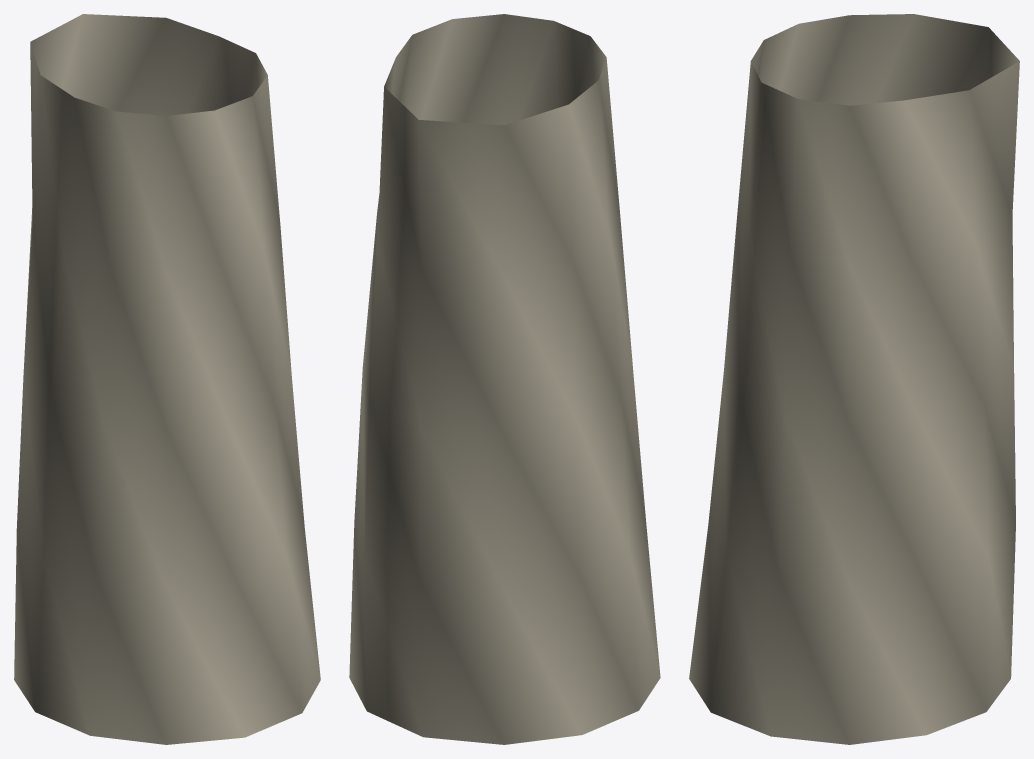
Rendered from necro_armor_greave.L.glb.
The picture shows the model from 3 angles, left to right: view 1: azimuth 30°, elevation 25°; view 2: azimuth 150°, elevation 25°; view 3: azimuth 270°, elevation 25°; orthographic projection. The views are drawn at different scales.
Parts seen in each view (by area): view 1: necro_armor_greave.L; view 2: necro_armor_greave.L; view 3: necro_armor_greave.L.
Boxes of the visible parts, x1,y1,x2,y2 form: necro_armor_greave.L: (14, 14, 320, 744); necro_armor_greave.L: (349, 14, 660, 744); necro_armor_greave.L: (689, 14, 1019, 744).
Size of the model in its own units: 0.1721 by 0.3767 by 0.1828.
